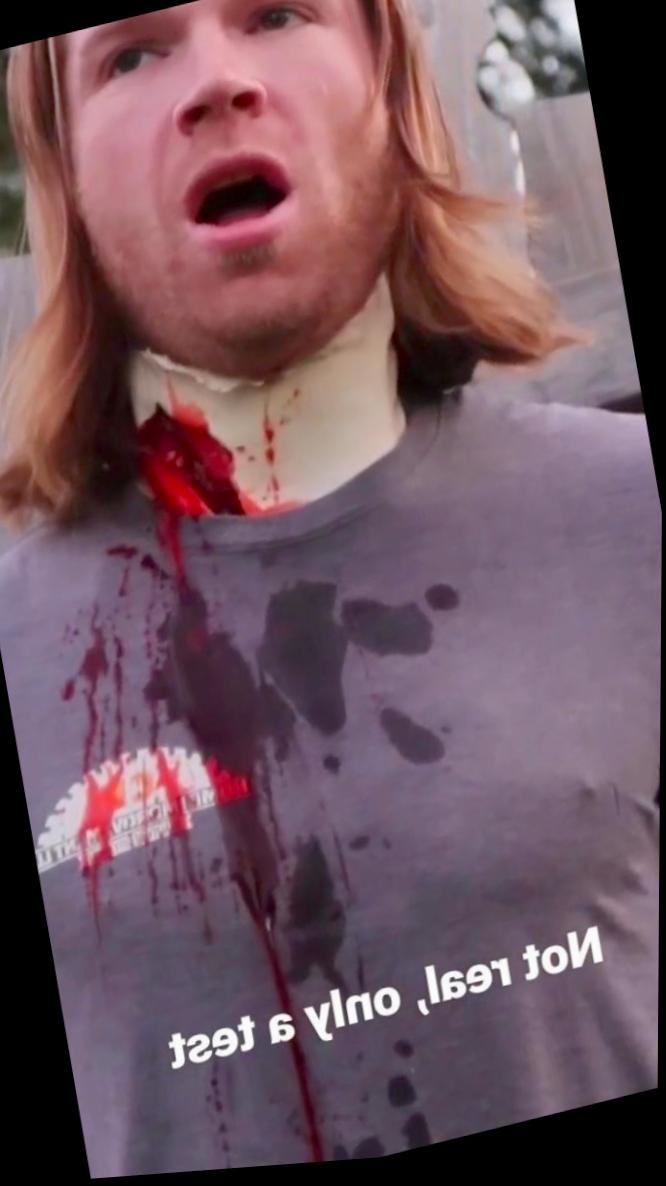Fire: (61, 401, 331, 1172)
